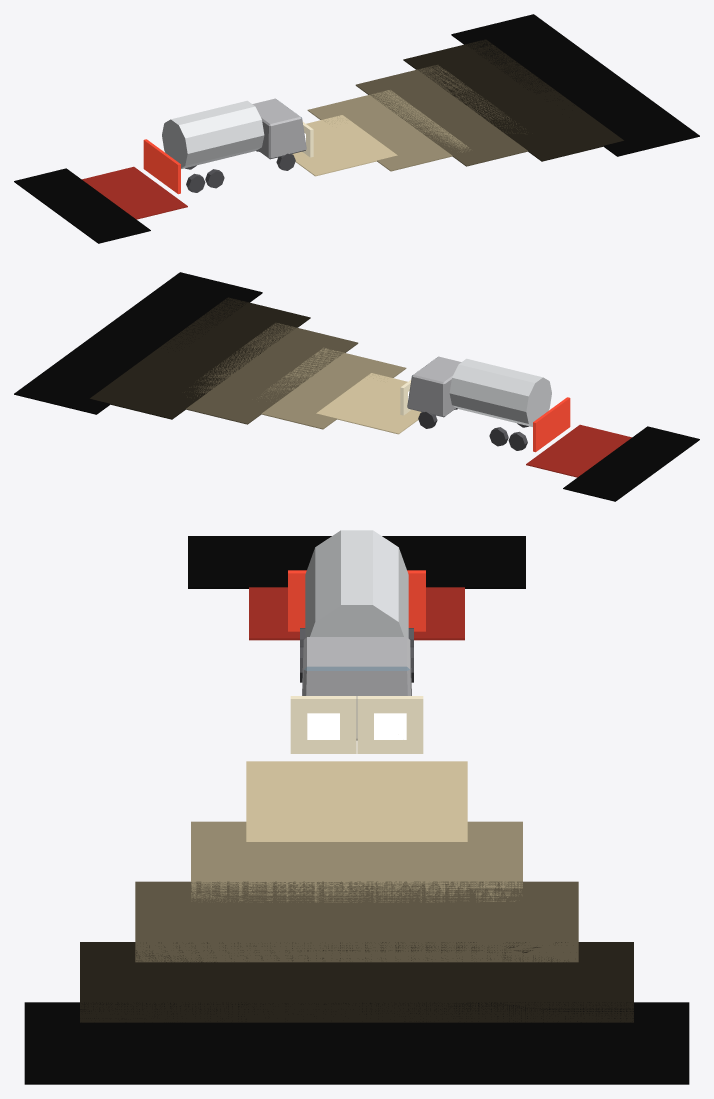
File: veh_rigid_tanker.glb
3 views of the same model, one above another, from view 1: azimuth 30°, elevation 25°; view 2: azimuth 150°, elevation 25°; view 3: azimuth 270°, elevation 25° (orthographic). The views are drawn at different scales.
Visible parts, largest first — view 1: veh_rigid_tanker; view 2: veh_rigid_tanker; view 3: veh_rigid_tanker.
Part boxes in pixels (x1,y1,x2,y2): veh_rigid_tanker: (14, 14, 699, 243); veh_rigid_tanker: (14, 272, 699, 501); veh_rigid_tanker: (24, 530, 689, 1084).
Bounding box in the file's own units: 2.45 × 0.2612 × 1.26.
